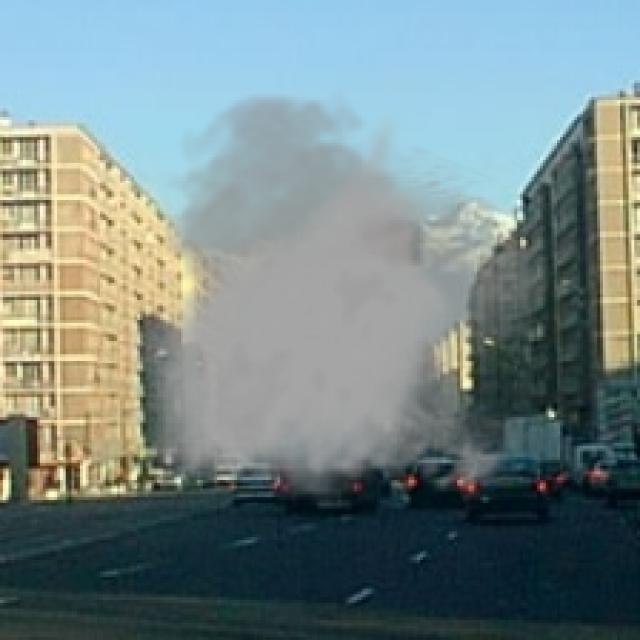Smoke: (126, 88, 552, 506)
